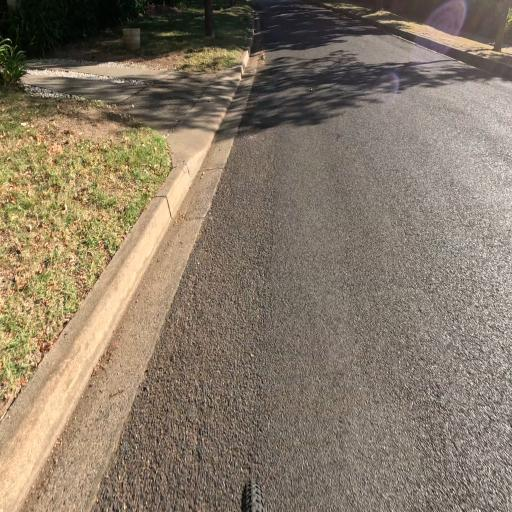kerb_cut: (173, 71, 254, 164)
